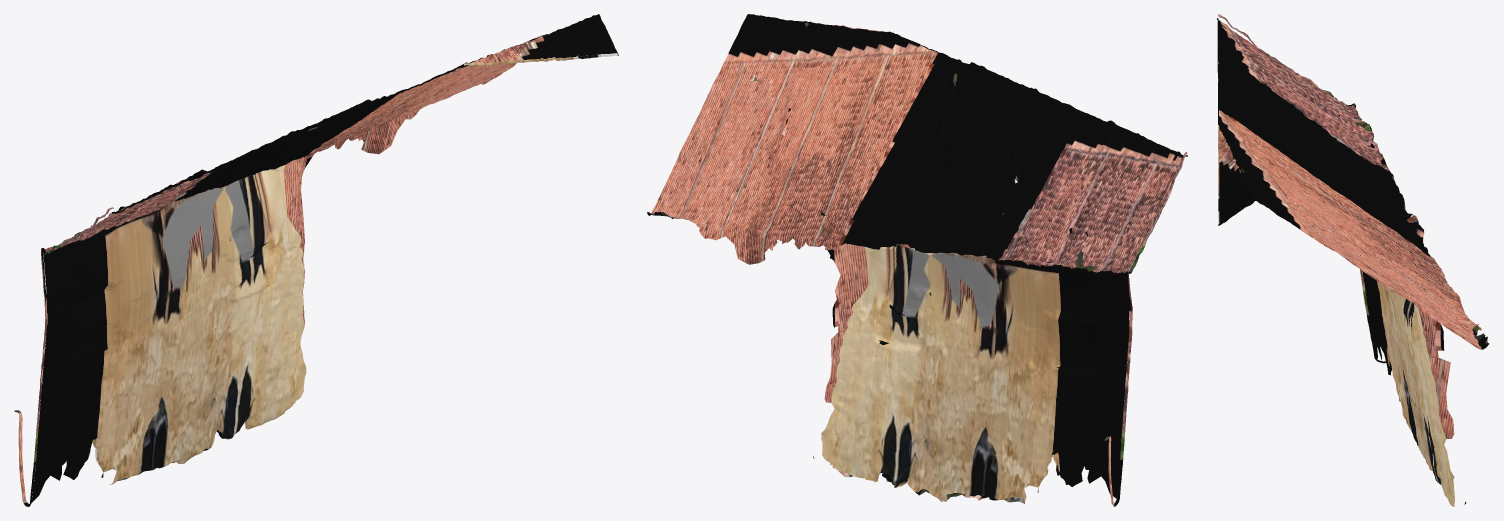
3 views of the same model, side by side, from view 1: azimuth 30°, elevation 25°; view 2: azimuth 150°, elevation 25°; view 3: azimuth 270°, elevation 25° (orthographic). The views are drawn at different scales.
Parts seen in each view (by area): view 1: node_31; view 2: node_31; view 3: node_31.
Boxes of the visible parts, box(x1,y1,x2,y2) form: node_31: box(14, 14, 618, 506); node_31: box(647, 14, 1187, 506); node_31: box(1217, 14, 1489, 506).
Bounding box in the file's own units: 23.19 × 19.25 × 11.19.
1 material, 1 textured.
